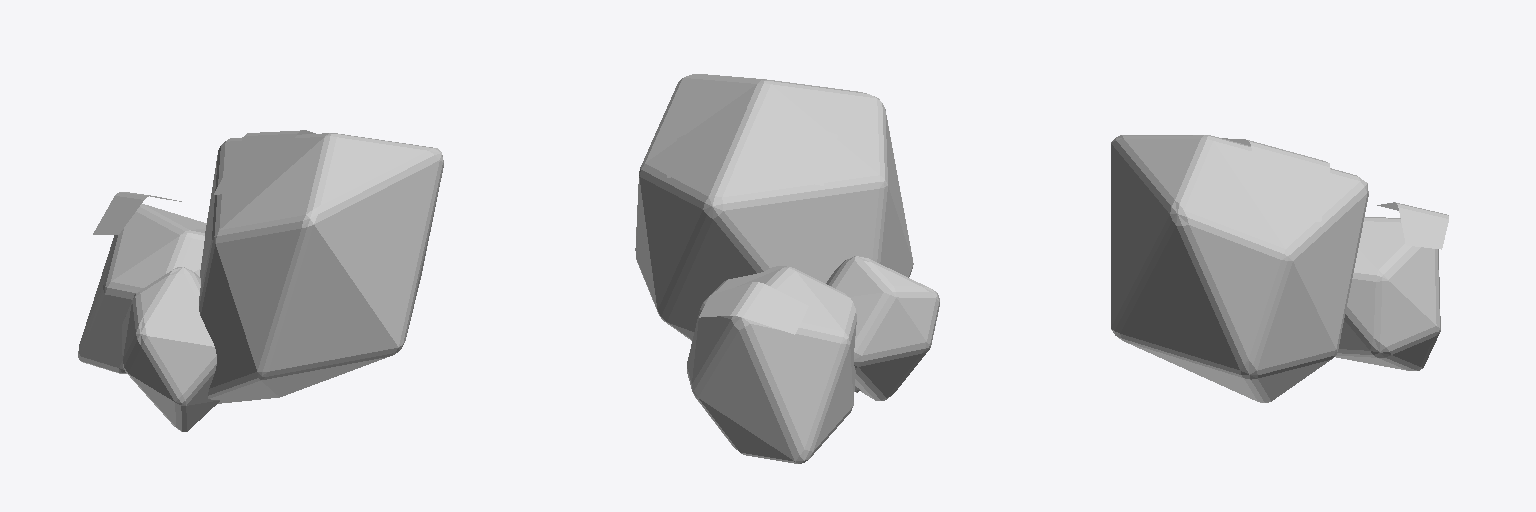
File: FOREST_DECOR_ROCKS_002.obj
The picture shows the model from 3 angles: view 1: azimuth 30°, elevation 25°; view 2: azimuth 150°, elevation 25°; view 3: azimuth 270°, elevation 25°; orthographic projection.
Parts seen in each view (by area): view 1: FOREST_DECOR_ROCKS_002; view 2: FOREST_DECOR_ROCKS_002; view 3: FOREST_DECOR_ROCKS_002.
Part boxes in pixels (x1,y1,x2,y2): FOREST_DECOR_ROCKS_002: (78,130,443,431); FOREST_DECOR_ROCKS_002: (635,74,939,463); FOREST_DECOR_ROCKS_002: (1111,135,1448,402).
Size of the model in its own units: 0.7014 by 0.6336 by 0.7001.